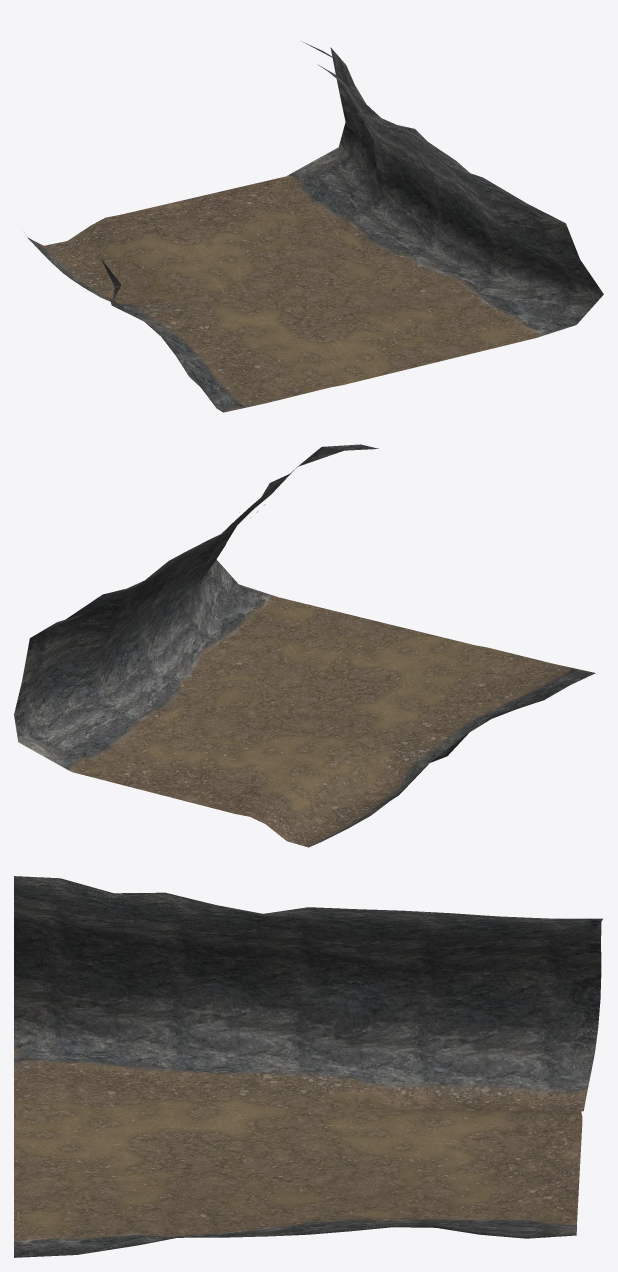
Rendered from TunnelA1.glb.
3 views of the same model, one above another, from view 1: azimuth 30°, elevation 25°; view 2: azimuth 150°, elevation 25°; view 3: azimuth 270°, elevation 25° (orthographic). The views are drawn at different scales.
Parts seen in each view (by area): view 1: TunnelA1; view 2: TunnelA1; view 3: TunnelA1.
Part boxes in pixels (x1=…): TunnelA1: x1=24, y1=41, x2=603, y2=412; TunnelA1: x1=14, y1=444, x2=595, y2=847; TunnelA1: x1=14, y1=876, x2=602, y2=1257.
Size of the model in its own units: 4.88 by 2.55 by 5.21.
Materials: 1 (1 with a texture image).
